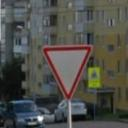preferencia: (39, 40, 96, 103)
